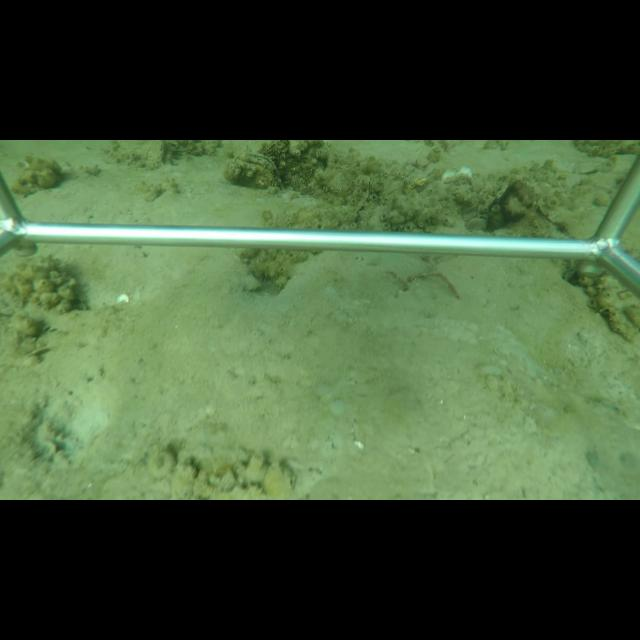Oyster-Closed: (590, 278, 637, 344), (225, 151, 286, 191)
